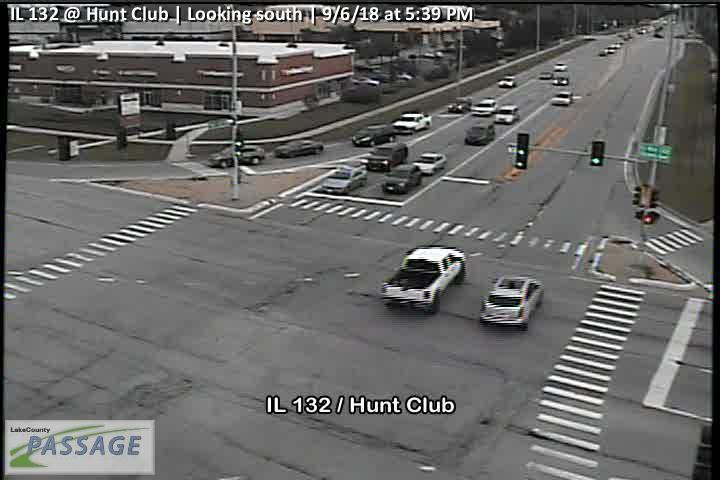SUV: (480, 276, 544, 330), (208, 143, 264, 168), (361, 142, 409, 171), (383, 161, 422, 194), (352, 121, 396, 148), (465, 121, 495, 146), (471, 97, 497, 117), (496, 103, 519, 125), (448, 96, 471, 112), (498, 74, 516, 89)
Sedan: (323, 166, 368, 195), (274, 138, 323, 157), (414, 151, 447, 174), (552, 90, 573, 106), (553, 70, 569, 85), (554, 61, 568, 71), (539, 71, 553, 79)
Truck: (383, 244, 466, 314), (393, 111, 432, 134)
